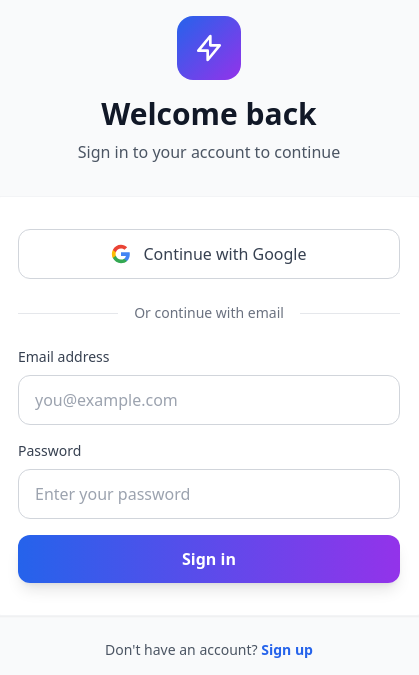
Test case: Login Page › disables submit button while loading
Type "test@example.com" into the field labelled "Email address".
click(209, 400); type("test@example.com")  # box [18,375,400,425]
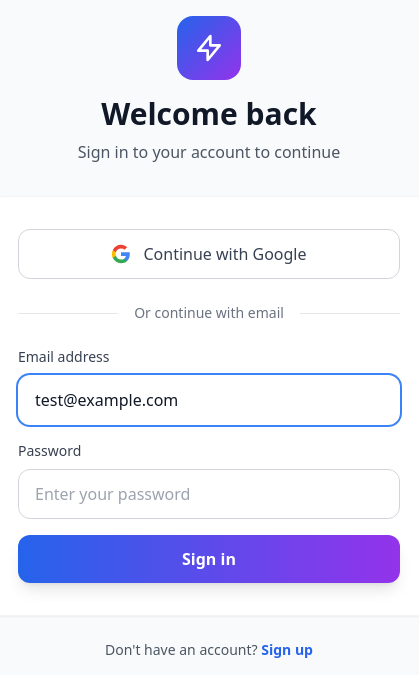
Type "password123" into the password field labelled "Password".
click(209, 494); type("password123")  # box [18,469,400,519]
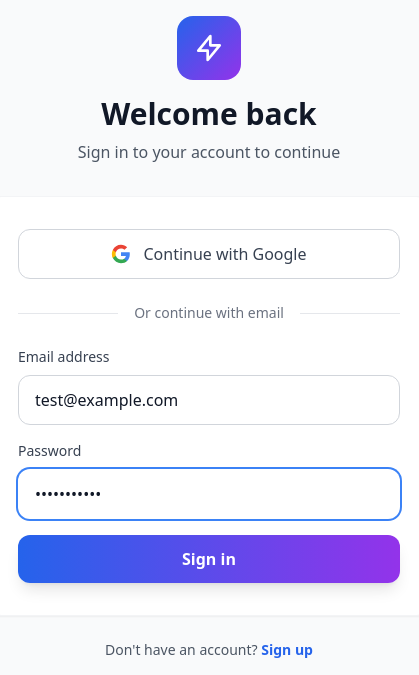
Click the button "Sign in".
click(209, 559)  # box [18,535,400,583]
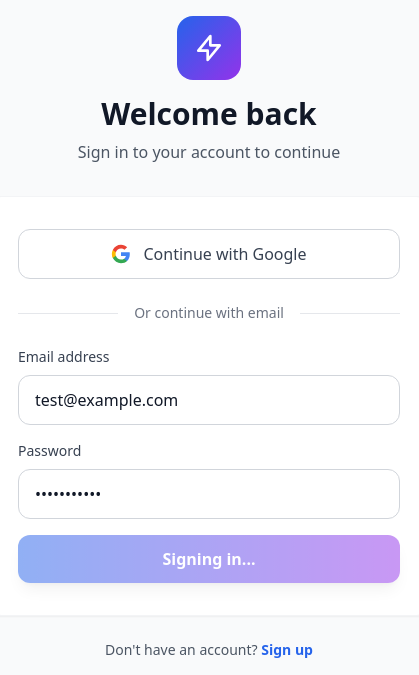
Result: the button named "sign in" is disabled at [18,535,400,583]
